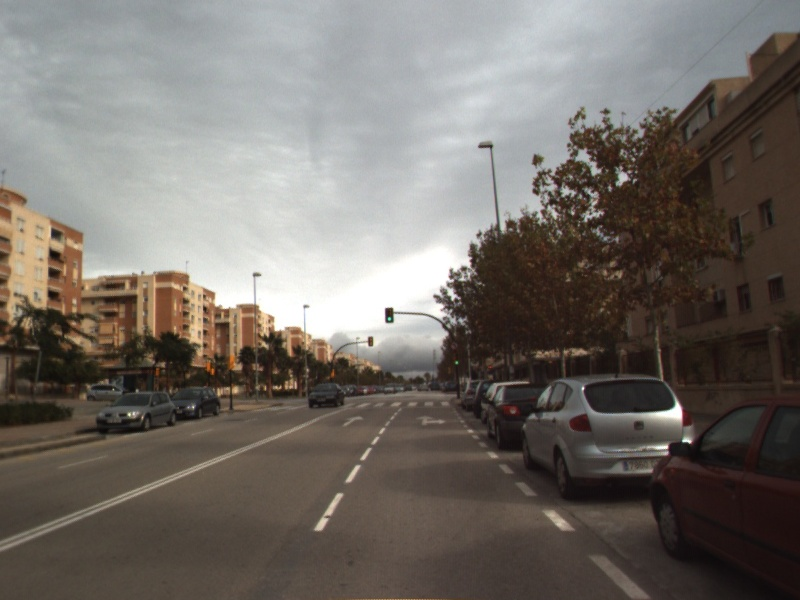STRAIGHT: (340, 413, 366, 428)
STRAIGHT_RIGHT: (414, 413, 448, 427)
